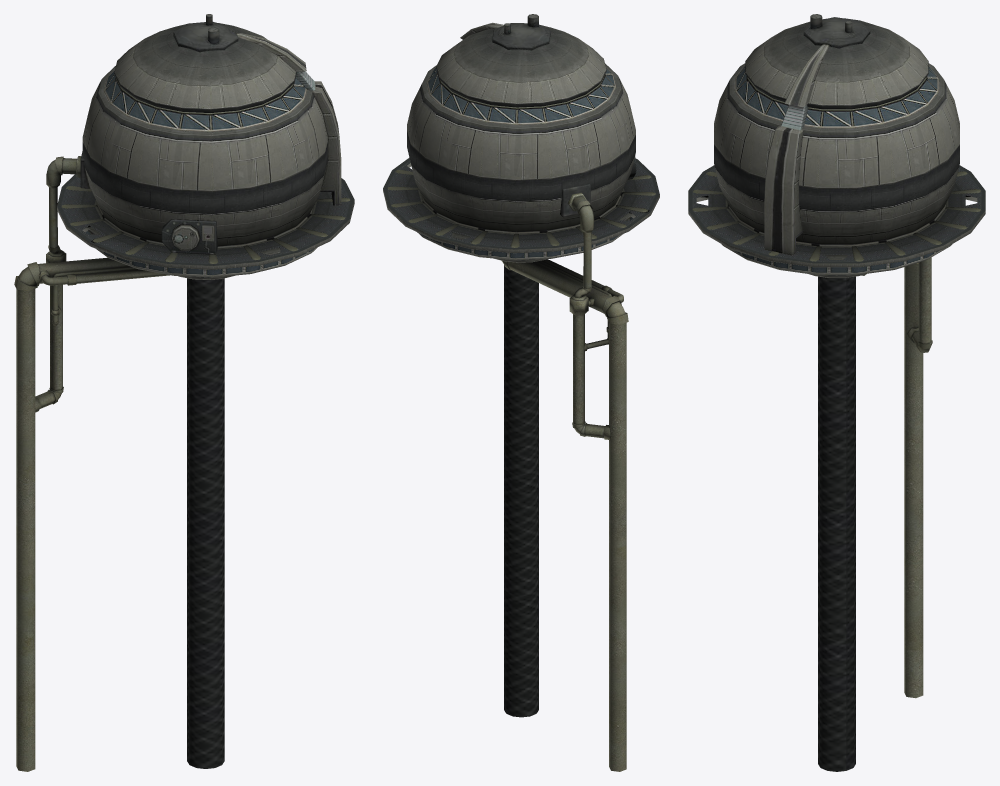
The model's file is waterTower.obj.
3 views of the same model, side by side, from view 1: azimuth 30°, elevation 25°; view 2: azimuth 150°, elevation 25°; view 3: azimuth 270°, elevation 25° (orthographic). The views are drawn at different scales.
Parts seen in each view (by area): view 1: waterTower; view 2: waterTower; view 3: waterTower.
Boxes of the visible parts, x1,y1,x2,y2 form: waterTower: [14, 14, 354, 771]; waterTower: [383, 14, 659, 771]; waterTower: [688, 14, 985, 771].
Size of the model in its own units: 51.49 by 130 by 46.95.
1 material, 1 textured.
